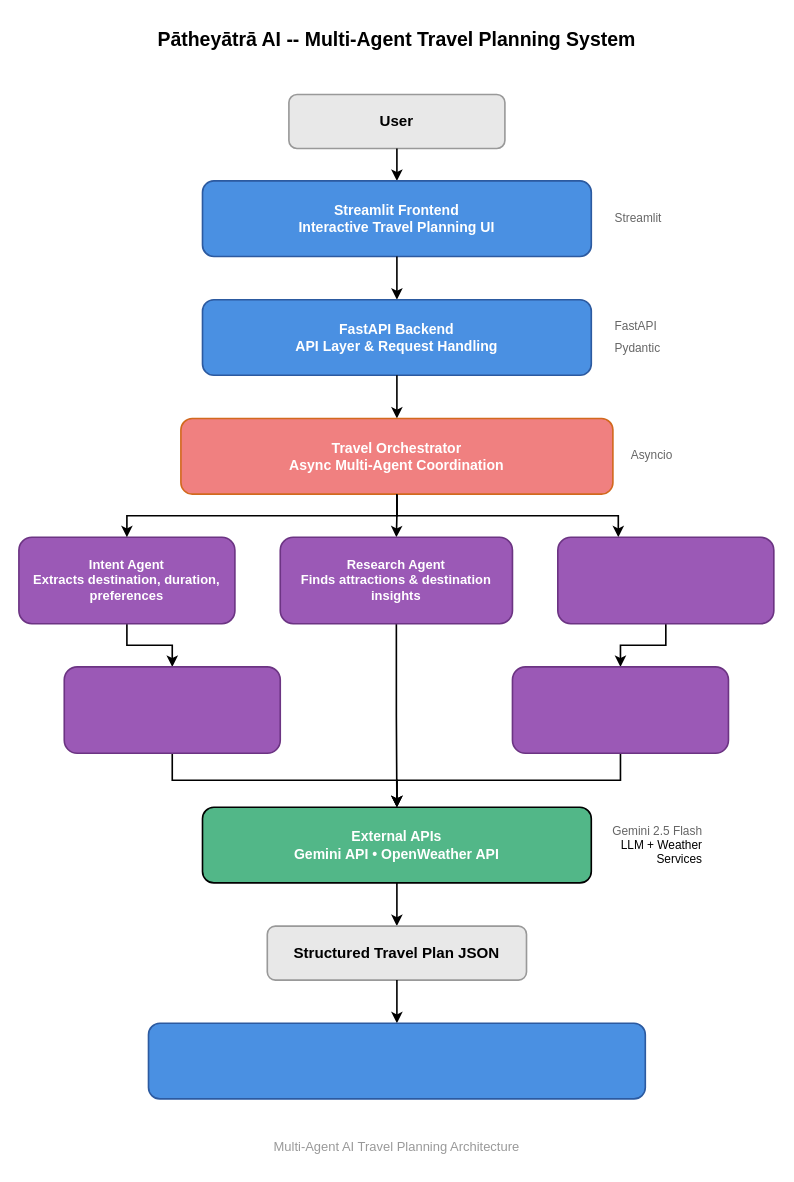
The diagram is 794 pixels wide and 1182 high, and some of its shapes have lost their labels. Each missing label, with the centre of its shape:
Budget Agent Estimates realistic travel costs: (x=172, y=710)
Frontend Rendering Travel Dashboard, Budget, Weather & Itinerary: (x=396, y=1060)
Itinerary Agent Creates day-wise travel plans: (x=665, y=580)
Weather Agent Fetches live weather conditions: (x=620, y=710)
